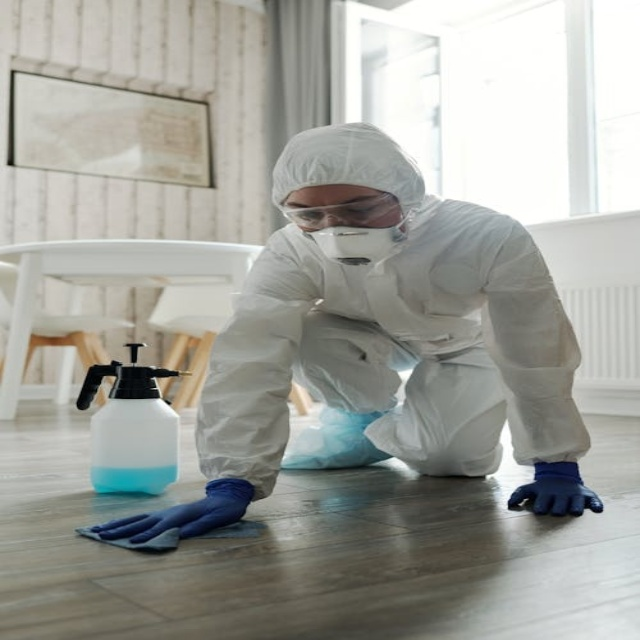Gafas: (281, 190, 406, 230)
Guantes: (94, 479, 256, 545), (507, 461, 604, 517)
Mascara: (303, 211, 407, 266)
